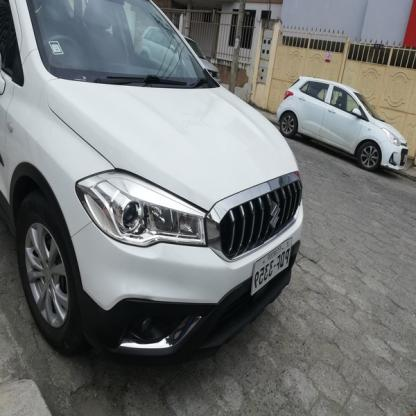Placa: (246, 235, 299, 299)
